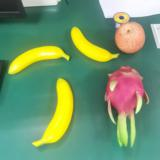apple: (115, 22, 146, 54)
pitaya: (104, 65, 149, 148)
